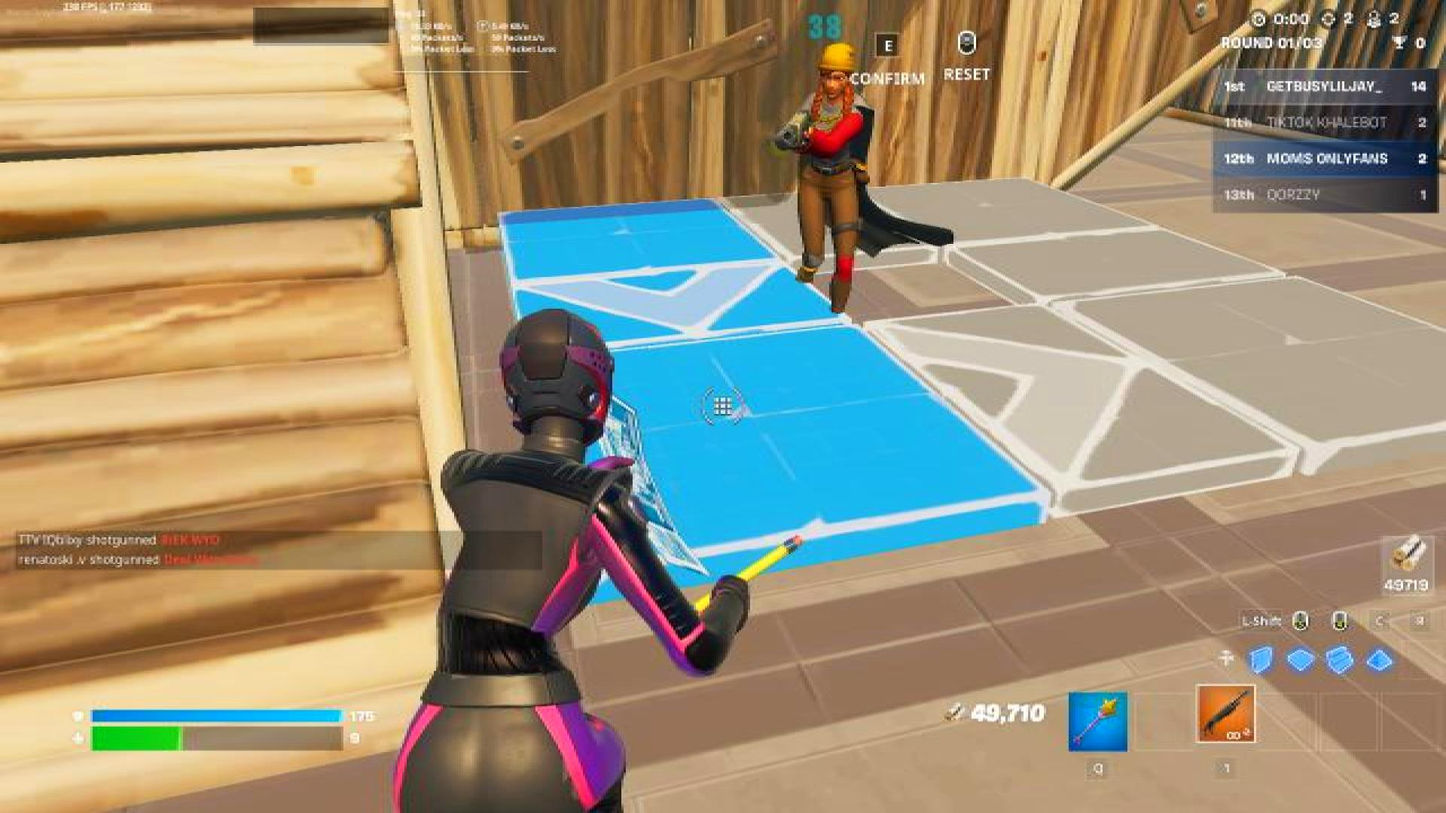player: (774, 34, 876, 315)
